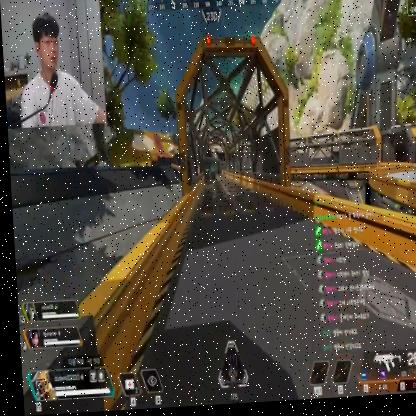streamer: (14, 11, 104, 127)
